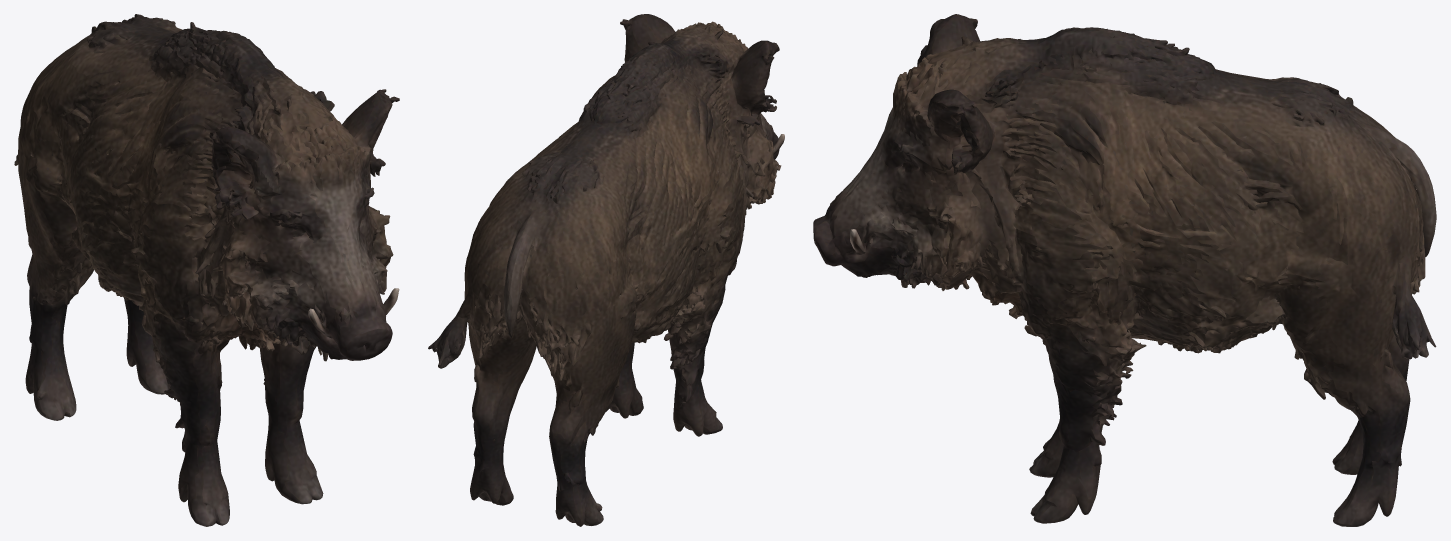
The model's file is wild-boar-v21.glb.
3 renders of one model, left to right at view 1: azimuth 30°, elevation 25°; view 2: azimuth 150°, elevation 25°; view 3: azimuth 270°, elevation 25°, orthographic. The views are drawn at different scales.
Parts seen in each view (by area): view 1: geometry_0; view 2: geometry_0; view 3: geometry_0.
Boxes of the visible parts, x1,y1,x2,y2 form: geometry_0: (14, 14, 399, 526); geometry_0: (428, 14, 784, 526); geometry_0: (813, 14, 1436, 526).
Bounding box in the file's own units: 1.5 × 3.22 × 3.9.
1 material, 1 textured.
